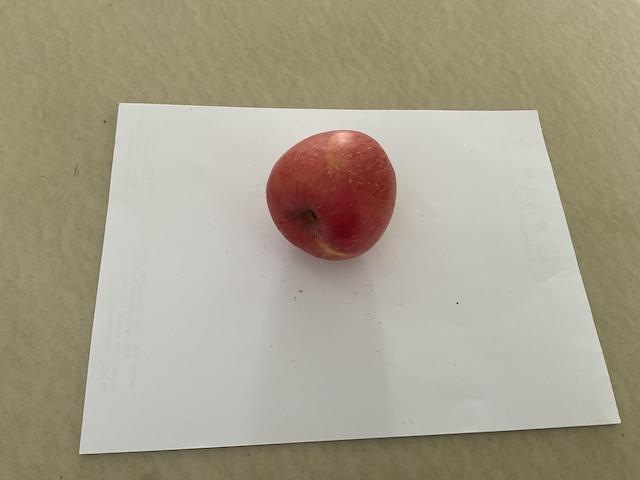apple: (260, 126, 402, 265)
